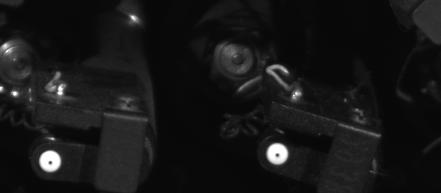fiber: (259, 138, 297, 171), (35, 147, 67, 176)
